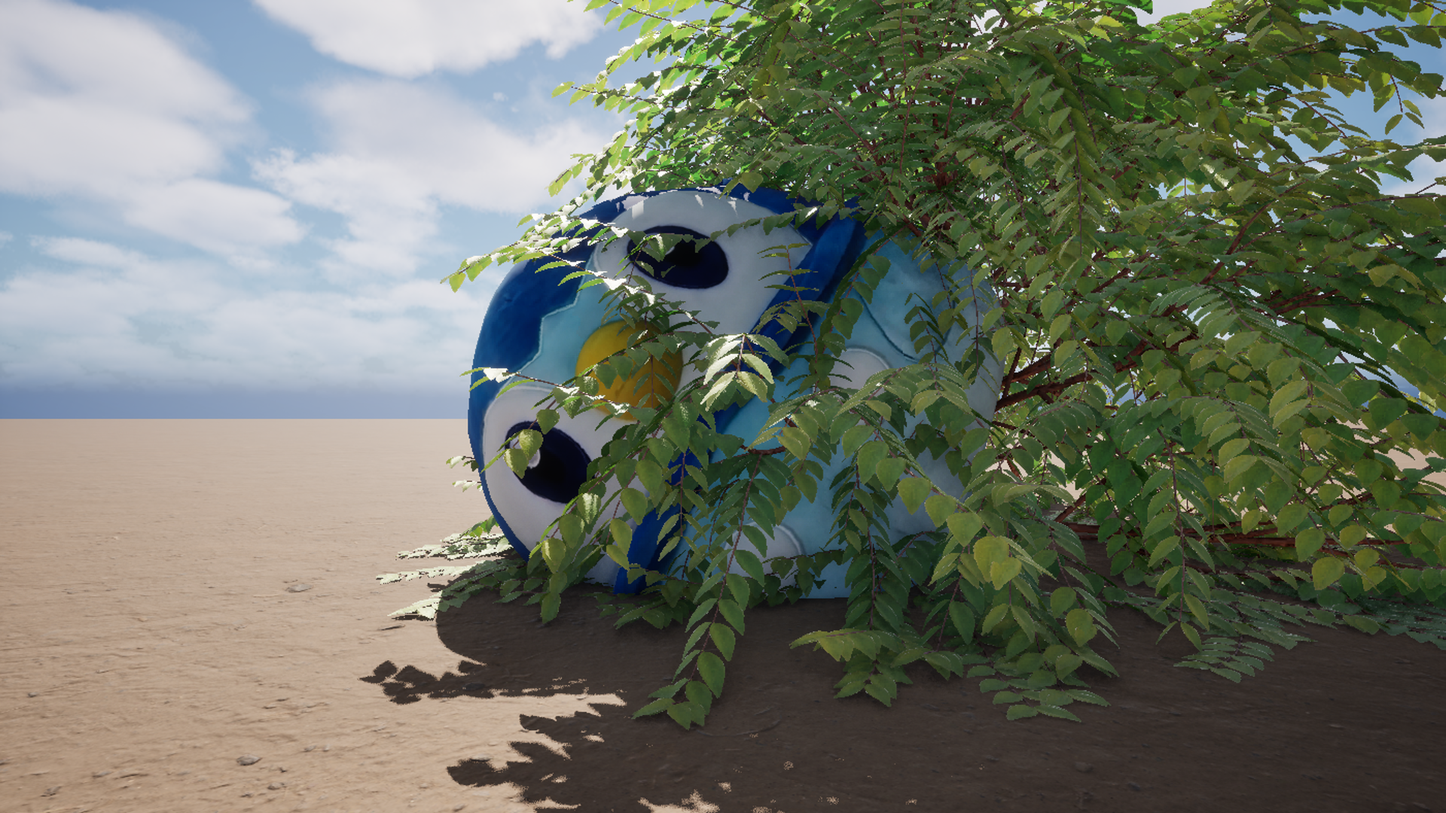Piplup: (269, 0, 1177, 813)
